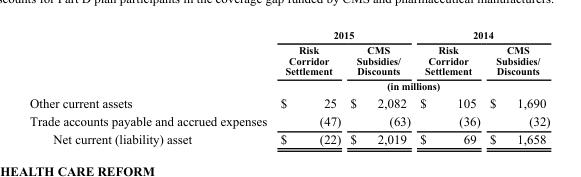table: (29, 28, 549, 145)
table column: (29, 28, 272, 145), (272, 28, 344, 145), (344, 28, 414, 145), (414, 28, 484, 145), (484, 28, 549, 145)
table column header: (29, 28, 549, 93)
table row: (29, 42, 549, 78), (29, 93, 549, 111), (29, 111, 549, 129), (29, 129, 549, 145), (29, 78, 549, 93), (29, 28, 549, 42)
table spanning cell: (272, 78, 549, 93), (272, 28, 414, 42), (414, 28, 549, 42)
